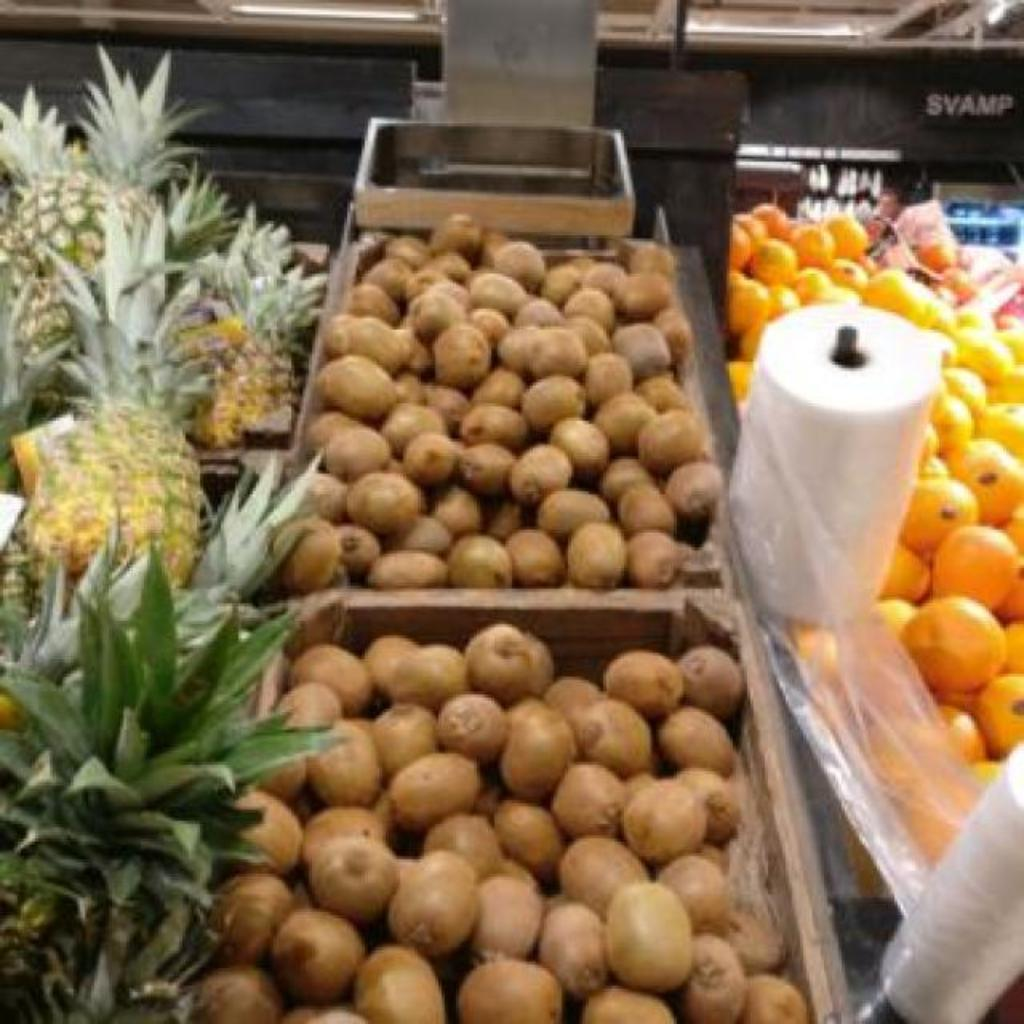kiwi: (388, 850, 478, 957), (270, 908, 366, 1005), (606, 884, 692, 991), (500, 700, 576, 801), (310, 836, 398, 923), (212, 872, 294, 964), (354, 946, 446, 1024), (622, 780, 706, 865), (392, 754, 482, 833), (560, 836, 650, 915), (466, 624, 552, 703), (538, 902, 606, 999), (458, 962, 562, 1024), (308, 720, 382, 806), (572, 700, 652, 777), (472, 874, 542, 958), (292, 644, 374, 715), (658, 854, 732, 931), (494, 800, 564, 881), (236, 790, 302, 875), (552, 762, 626, 837), (684, 936, 746, 1023), (386, 646, 470, 709), (604, 652, 682, 719), (318, 356, 398, 421), (662, 706, 736, 775), (426, 814, 504, 877), (193, 968, 280, 1024), (438, 694, 508, 763), (678, 646, 744, 719), (372, 704, 438, 777), (676, 768, 740, 843), (302, 808, 386, 865), (346, 474, 424, 535), (329, 316, 410, 373), (555, 522, 626, 587), (498, 326, 588, 377), (280, 520, 342, 593), (638, 410, 706, 473), (594, 392, 658, 455), (432, 322, 492, 389), (550, 418, 610, 483), (510, 444, 572, 505), (324, 426, 392, 481), (538, 488, 610, 539), (724, 910, 782, 973), (580, 986, 676, 1023), (522, 376, 586, 431), (380, 402, 446, 455), (506, 528, 564, 587), (408, 288, 468, 343), (666, 462, 722, 519), (362, 636, 418, 693), (451, 534, 510, 587), (402, 432, 460, 485), (460, 404, 528, 449), (741, 980, 810, 1024), (366, 552, 448, 589), (630, 530, 682, 587), (618, 484, 676, 535), (458, 444, 516, 495), (614, 272, 672, 321), (492, 240, 546, 291), (282, 682, 342, 727), (621, 324, 670, 379), (598, 456, 654, 503), (472, 272, 528, 318), (432, 486, 482, 537), (544, 676, 604, 717), (586, 354, 634, 405), (430, 214, 482, 261), (362, 258, 414, 303), (654, 306, 692, 367), (394, 516, 452, 555), (339, 524, 380, 579), (472, 368, 526, 407), (566, 286, 610, 331), (426, 386, 468, 433), (347, 288, 400, 325), (564, 316, 612, 355), (636, 377, 688, 411), (540, 264, 582, 305), (631, 242, 672, 279), (384, 238, 428, 269), (582, 264, 626, 295), (486, 502, 522, 539), (514, 298, 562, 325), (470, 310, 508, 343), (432, 256, 472, 283), (570, 258, 593, 273)
